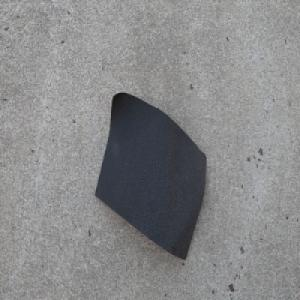PaintChip: (94, 89, 207, 261)
